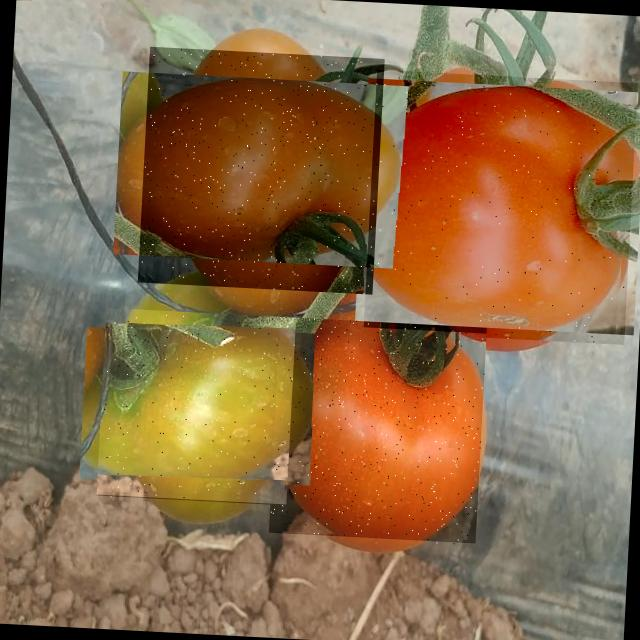Ripe Tomato: (363, 70, 638, 345), (138, 46, 384, 294), (268, 317, 486, 546)
Unripe Tomato: (96, 308, 296, 508)
